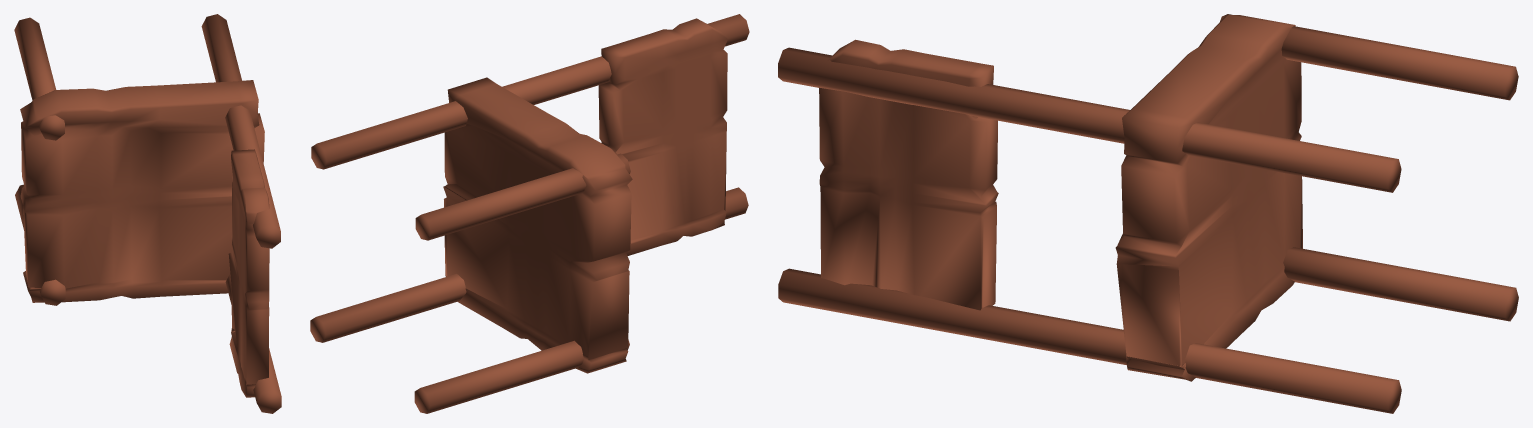
The model's file is Chair.fbx.
3 views of the same model, side by side, from view 1: azimuth 30°, elevation 25°; view 2: azimuth 150°, elevation 25°; view 3: azimuth 270°, elevation 25° (orthographic). The views are drawn at different scales.
Visible parts, largest first — view 1: Cube.004; view 2: Cube.004; view 3: Cube.004.
Part boxes in pixels (left/top/right/bottom): Cube.004: left=14, top=14, right=281, bottom=413; Cube.004: left=310, top=14, right=749, bottom=413; Cube.004: left=778, top=14, right=1518, bottom=413.
Bounding box in the file's own units: 111 × 82.21 × 209.
